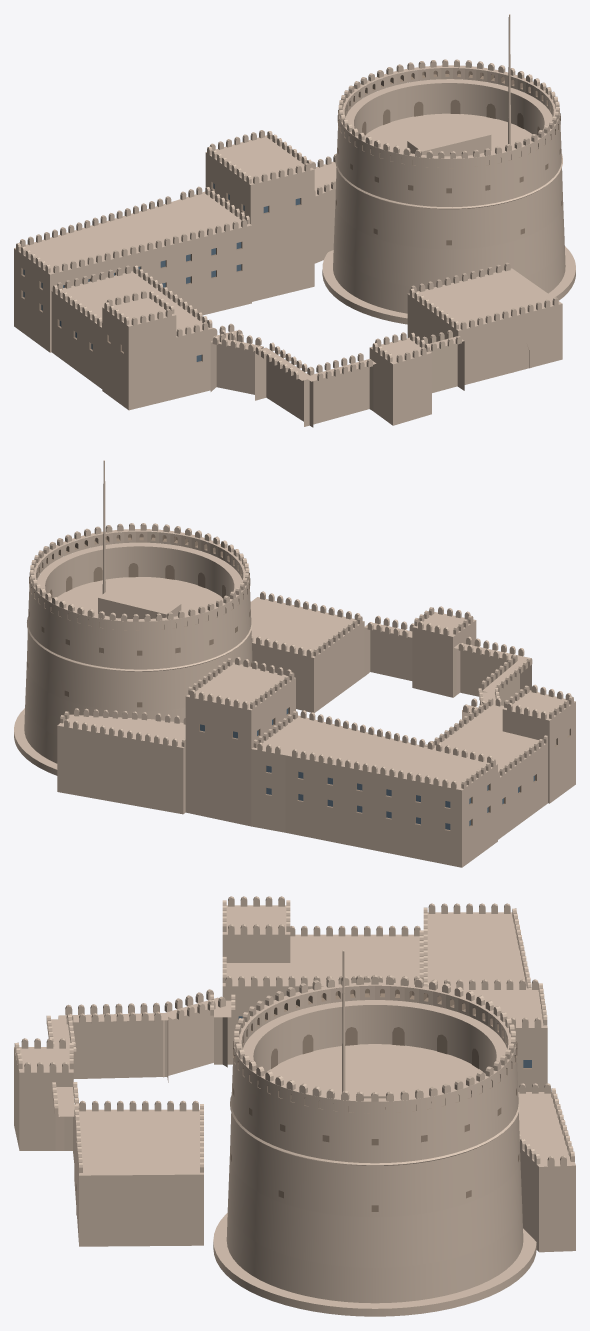
The model's file is nizwa-fort.detail.glb.
3 views of the same model, one above another, from view 1: azimuth 30°, elevation 25°; view 2: azimuth 150°, elevation 25°; view 3: azimuth 270°, elevation 25° (orthographic). The views are drawn at different scales.
Visible parts, largest first — view 1: Nizwa Fort; view 2: Nizwa Fort; view 3: Nizwa Fort.
Part boxes in pixels (<box>): Nizwa Fort: <box>14,14,575,427</box>; Nizwa Fort: <box>14,460,575,867</box>; Nizwa Fort: <box>14,896,575,1316</box>.
Bounding box in the file's own units: 91.9 × 46.1 × 71.6.
